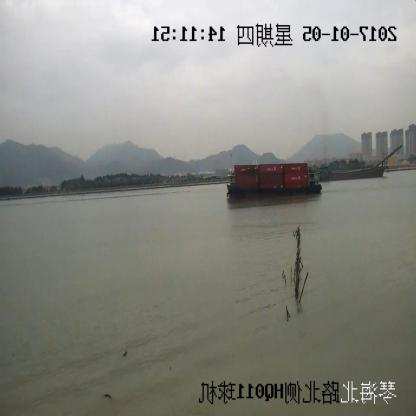Bulk Carrier: (322, 146, 400, 181)
